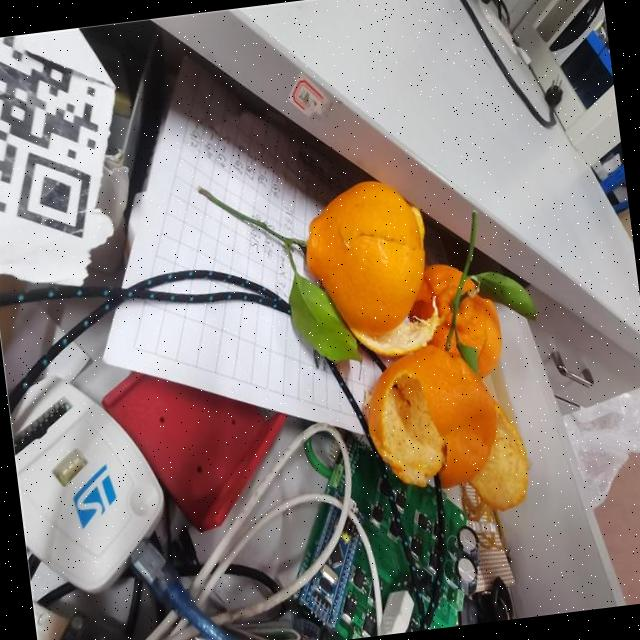orange-peel: (294, 163, 532, 527), (295, 172, 436, 344), (357, 336, 505, 496)
